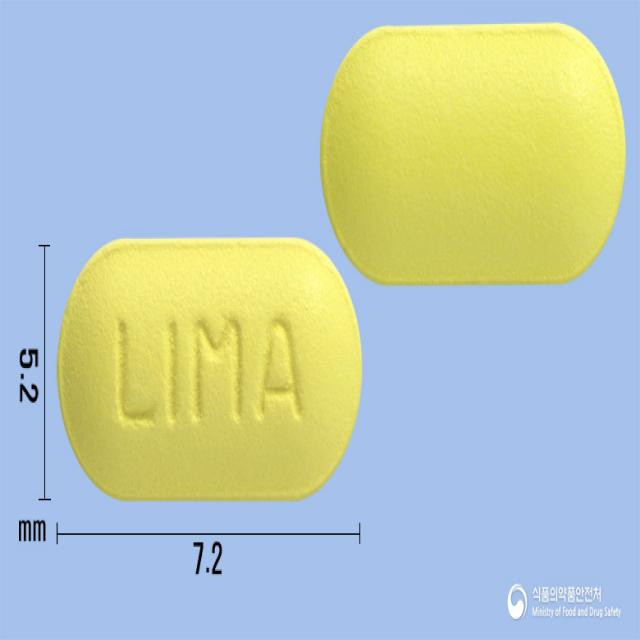Liamclo -250mg: (59, 237, 365, 503), (321, 23, 626, 284)
